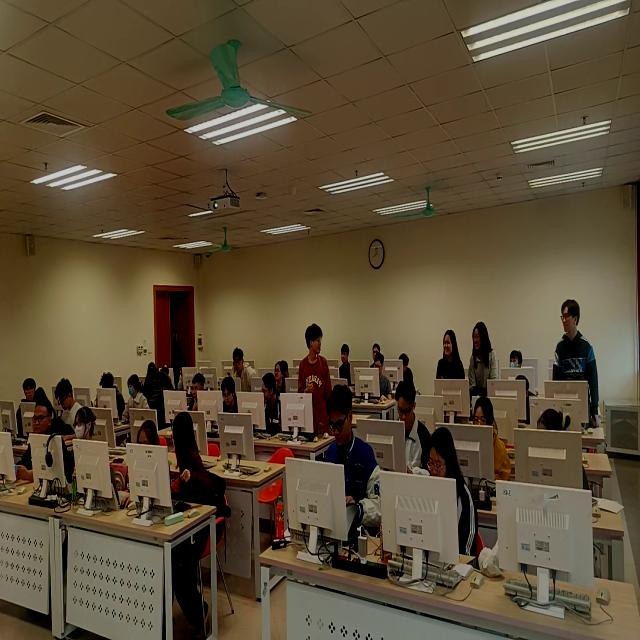raise_head: (17, 395, 67, 484), (65, 402, 97, 494), (17, 375, 38, 437), (231, 346, 254, 394), (340, 339, 353, 385), (508, 347, 525, 375), (275, 359, 288, 395), (372, 342, 382, 363)
stand: (554, 295, 602, 423), (298, 319, 335, 445), (469, 319, 502, 393), (435, 326, 466, 390), (144, 359, 173, 427)
using_computer: (326, 382, 382, 537), (428, 427, 479, 561), (116, 415, 162, 511), (539, 409, 590, 494), (471, 392, 515, 487), (396, 381, 431, 478), (96, 366, 126, 425), (261, 372, 285, 435), (55, 376, 80, 435), (123, 370, 149, 426), (515, 373, 537, 428), (375, 355, 394, 406), (186, 371, 207, 416), (221, 372, 240, 416), (398, 352, 416, 393), (35, 383, 49, 406)
